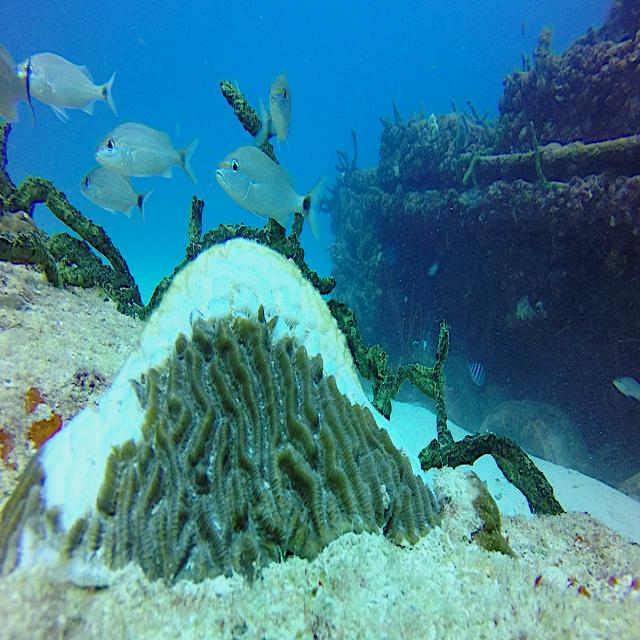Coral: (0, 238, 444, 590)
